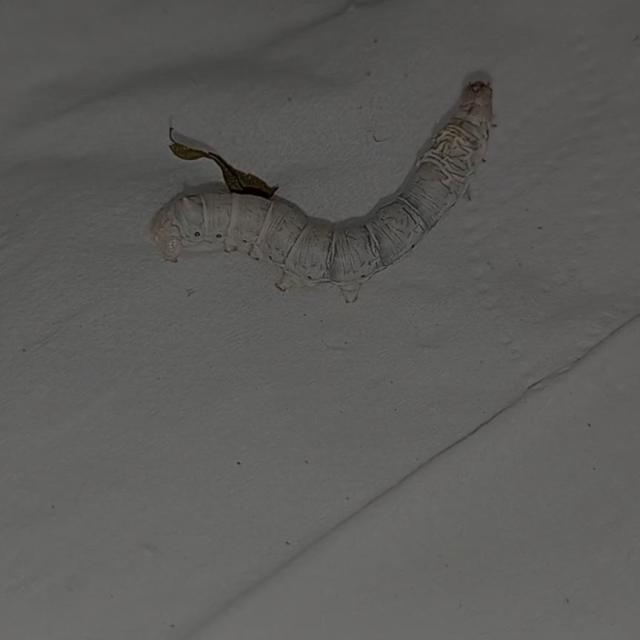Healthy: (98, 57, 539, 323)
